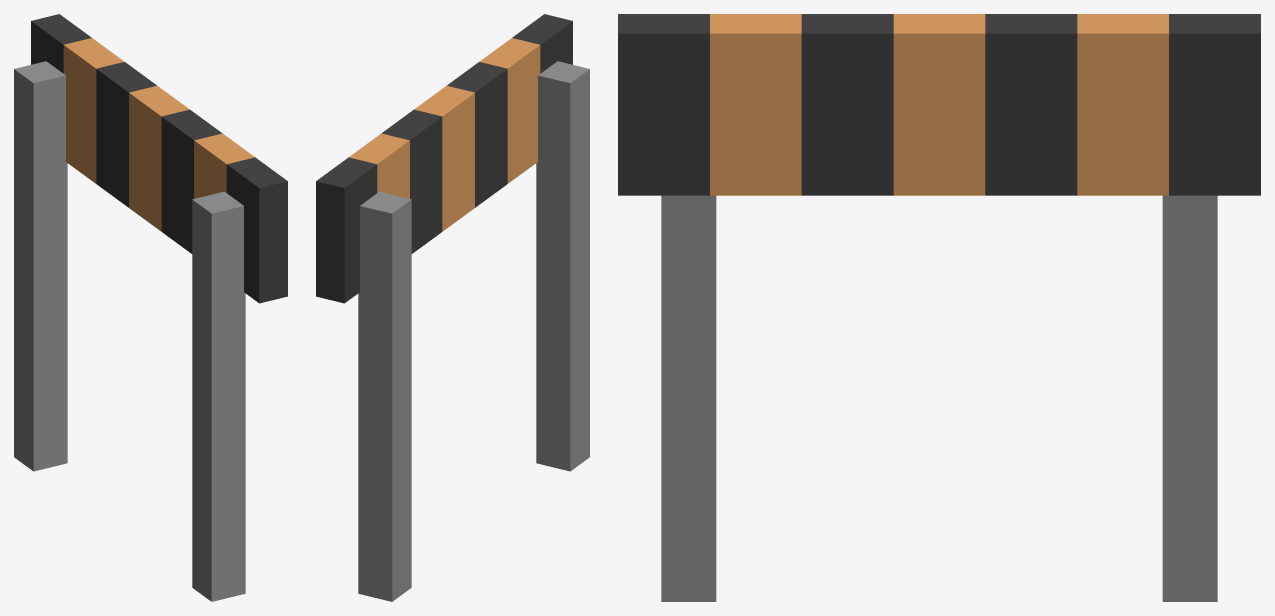
Rendered from Obstacle_2.fbx.
The picture shows the model from 3 angles, left to right: view 1: azimuth 30°, elevation 25°; view 2: azimuth 150°, elevation 25°; view 3: azimuth 270°, elevation 25°; orthographic projection. The views are drawn at different scales.
Parts seen in each view (by area): view 1: Cube.001, Cube.004, Cube.008, Cube.007, Cube.006, Cube.009, Cube.005, Cube.002; view 2: Cube.001, Cube.002, Cube.006, Cube.007, Cube.008, Cube.005, Cube.009, Cube.004; view 3: Cube.001, Cube.006, Cube.007, Cube.008, Cube.002, Cube.004, Cube.005, Cube.009.
Part boxes in pixels (<box>): Cube.001: <box>14,61,245,601</box>; Cube.004: <box>226,157,287,303</box>; Cube.008: <box>96,62,156,207</box>; Cube.007: <box>129,85,189,231</box>; Cube.006: <box>161,109,222,253</box>; Cube.009: <box>63,38,124,183</box>; Cube.005: <box>194,133,254,198</box>; Cube.002: <box>31,14,91,73</box>; Cube.001: <box>358,61,589,601</box>; Cube.002: <box>316,157,377,303</box>; Cube.006: <box>447,62,507,207</box>; Cube.007: <box>414,85,474,231</box>; Cube.008: <box>381,109,442,253</box>; Cube.005: <box>479,38,540,183</box>; Cube.009: <box>349,133,409,198</box>; Cube.004: <box>512,14,572,73</box>; Cube.001: <box>661,195,1217,601</box>; Cube.006: <box>801,14,893,195</box>; Cube.007: <box>893,14,985,195</box>; Cube.008: <box>985,14,1077,195</box>; Cube.002: <box>1169,14,1260,195</box>; Cube.004: <box>618,14,709,195</box>; Cube.005: <box>710,14,801,195</box>; Cube.009: <box>1077,14,1168,195</box>.
Bounding box in the file's own units: 110 × 724 × 718.
